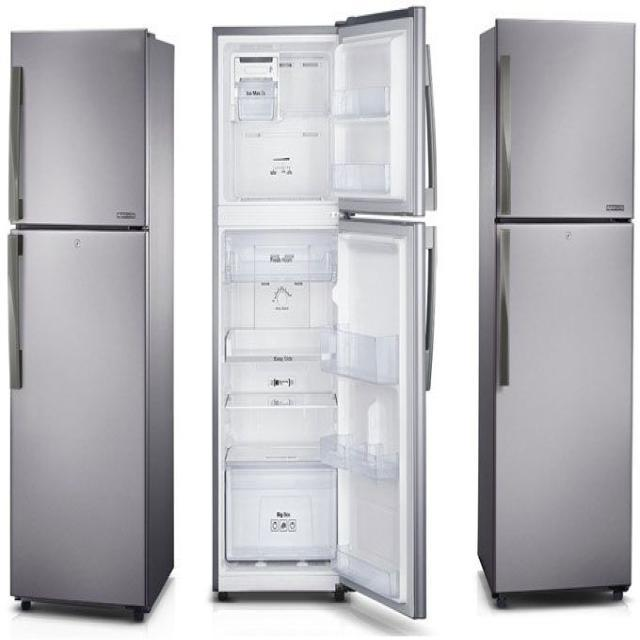obstacle: (211, 6, 437, 620), (7, 27, 175, 622), (476, 17, 636, 607)
